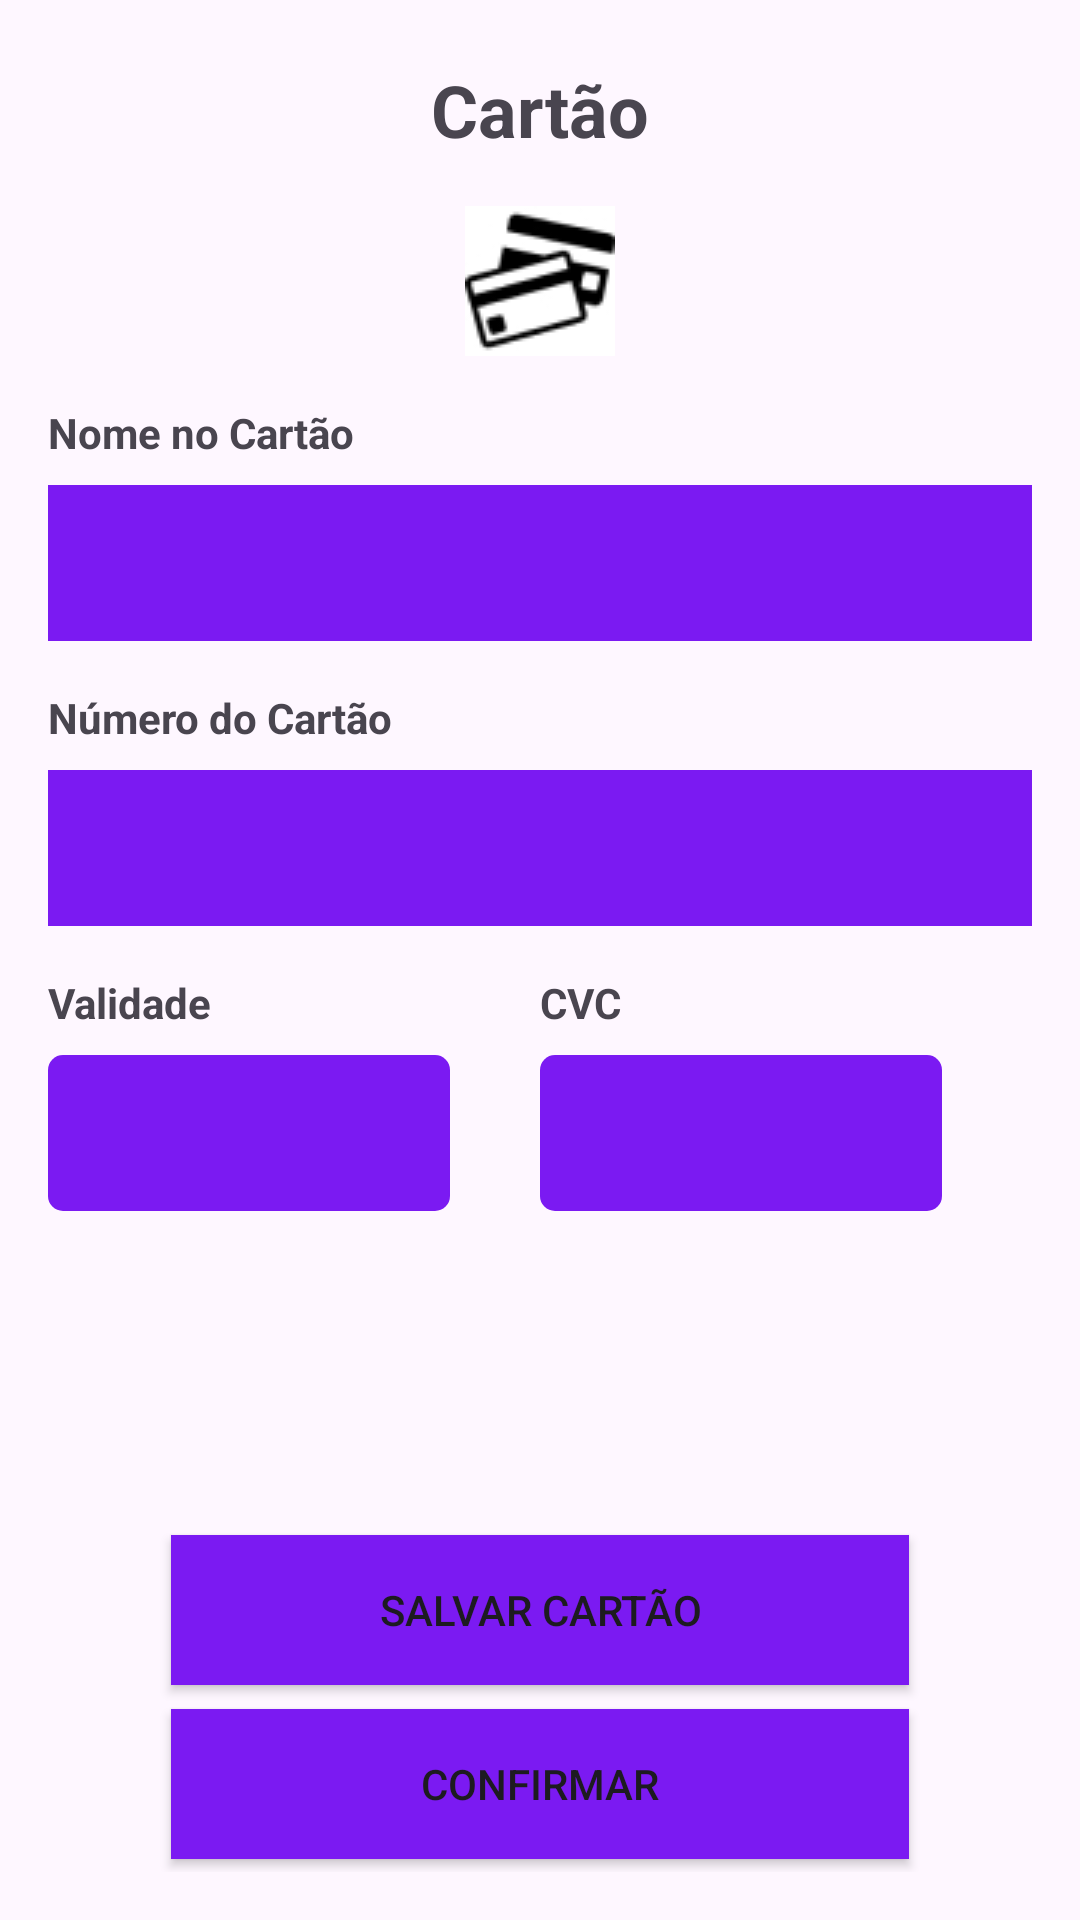

Icons on this 1080*1920 Android screen, each with its box as bbox(x1, y1, x2, y2):
cartao: bbox(465, 212, 615, 350)
